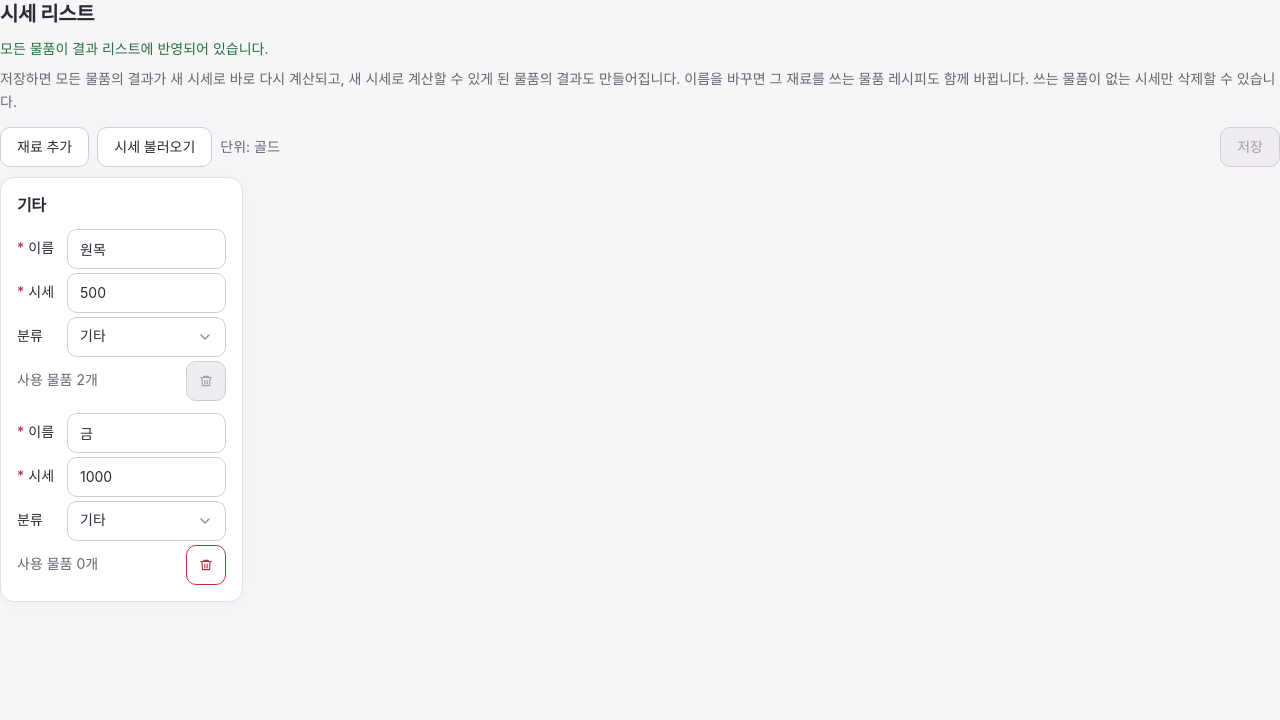
MarketManagePage › 쓰는 물품이 없는 시세를 확인 뒤 삭제하고 표에서도 뺀다
Expected: the text "2개" is shown, left=76, top=371, right=98, bottom=388
Expected: the button named "원목 삭제" is disabled, left=186, top=361, right=226, bottom=401
Click the button named "금 삭제".
click(206, 565)  # box left=186, top=545, right=226, bottom=585
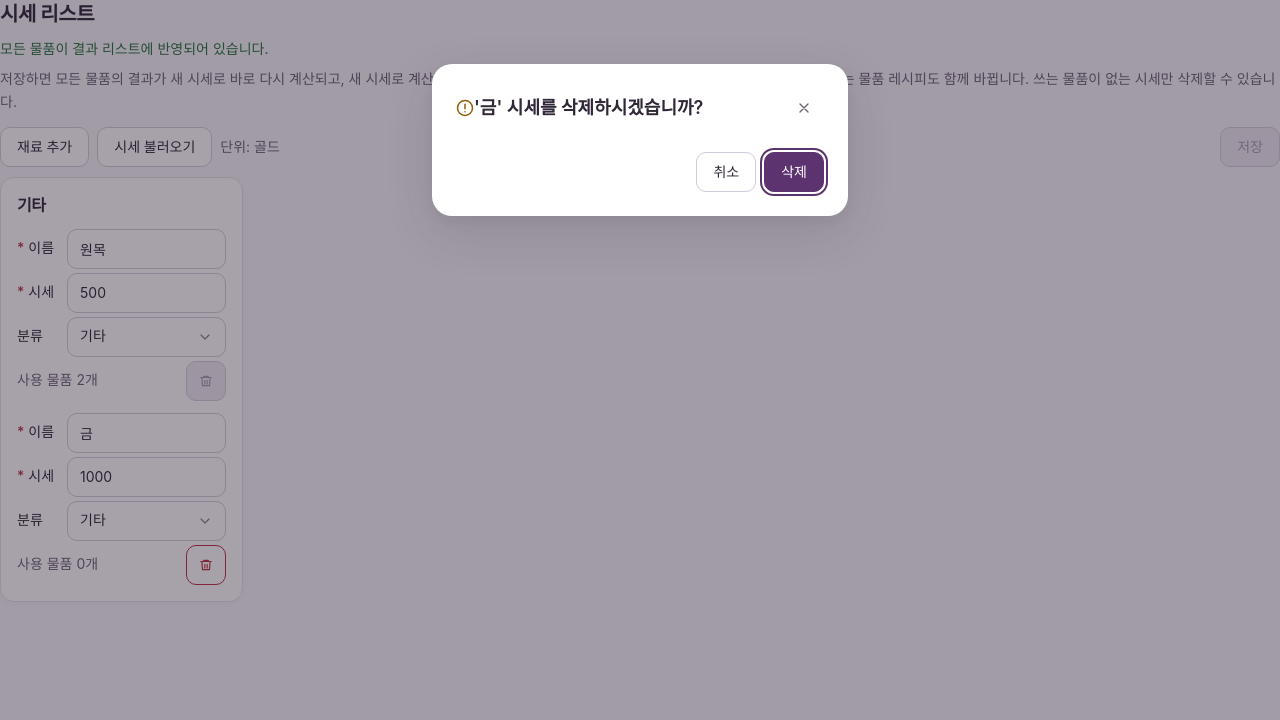
Click the button "삭제".
click(794, 172)  # box left=764, top=152, right=824, bottom=192
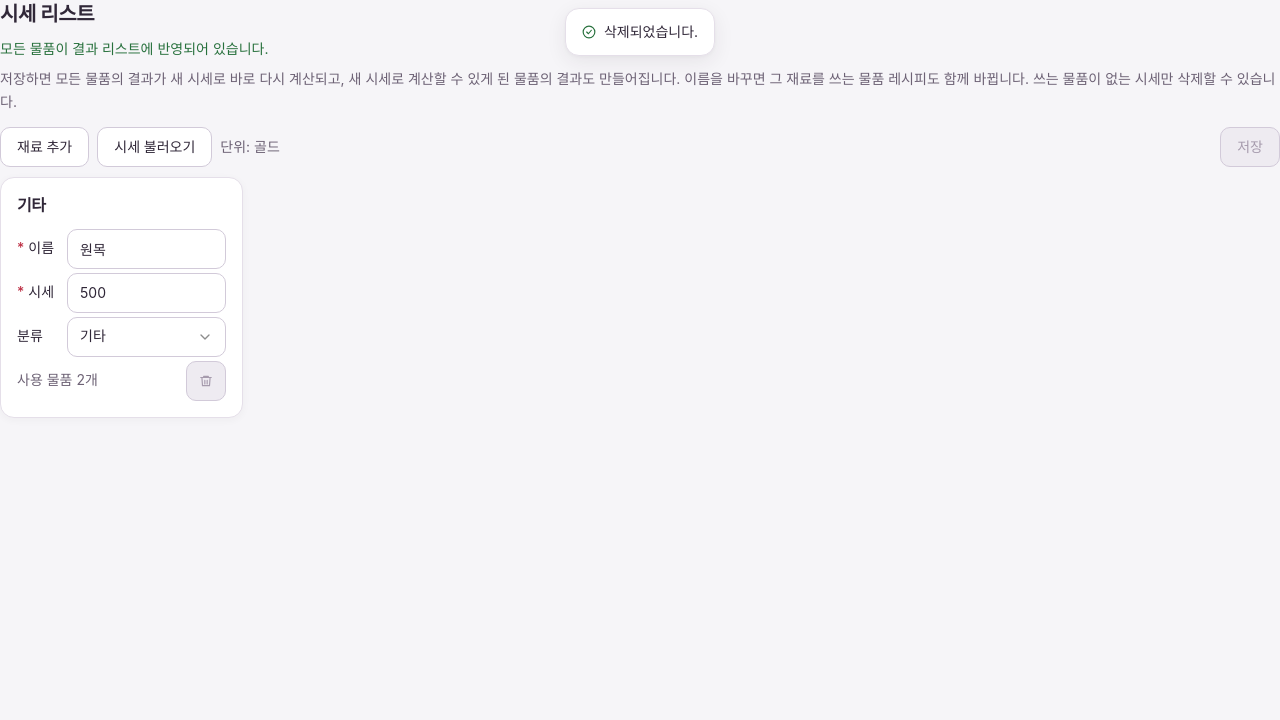
Expected: the field labelled "금 시세" is not shown
Result: the text "삭제되었습니다." is shown at left=604, top=21, right=698, bottom=43
